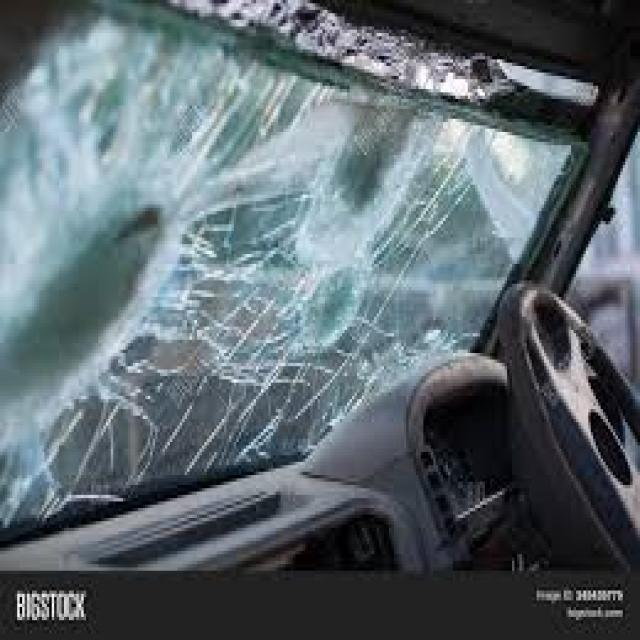damaged-windscreen: (3, 0, 559, 530)
